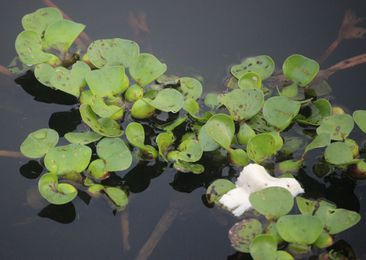water_hyacinth: (6, 2, 366, 260)
